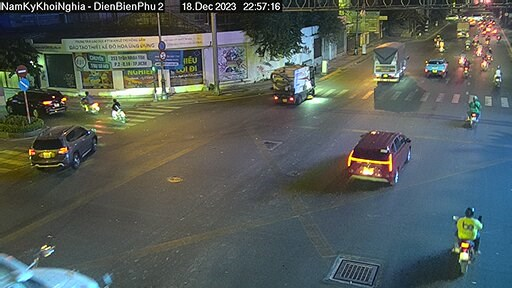car: (353, 123, 413, 185), (28, 123, 102, 170), (10, 83, 64, 121), (422, 54, 453, 82)
motorbike: (445, 206, 487, 268), (99, 97, 130, 125), (466, 93, 489, 130), (78, 88, 101, 112), (492, 67, 504, 89)
truck: (270, 65, 319, 105), (375, 33, 407, 85)
